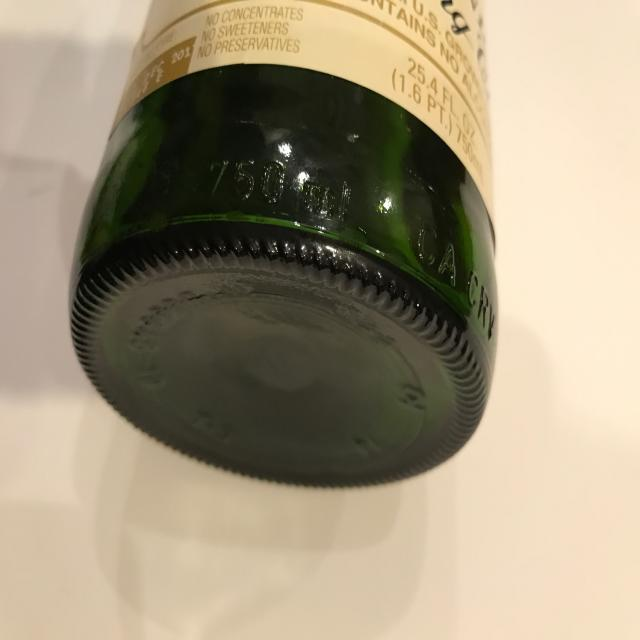glass: (67, 2, 500, 492)
